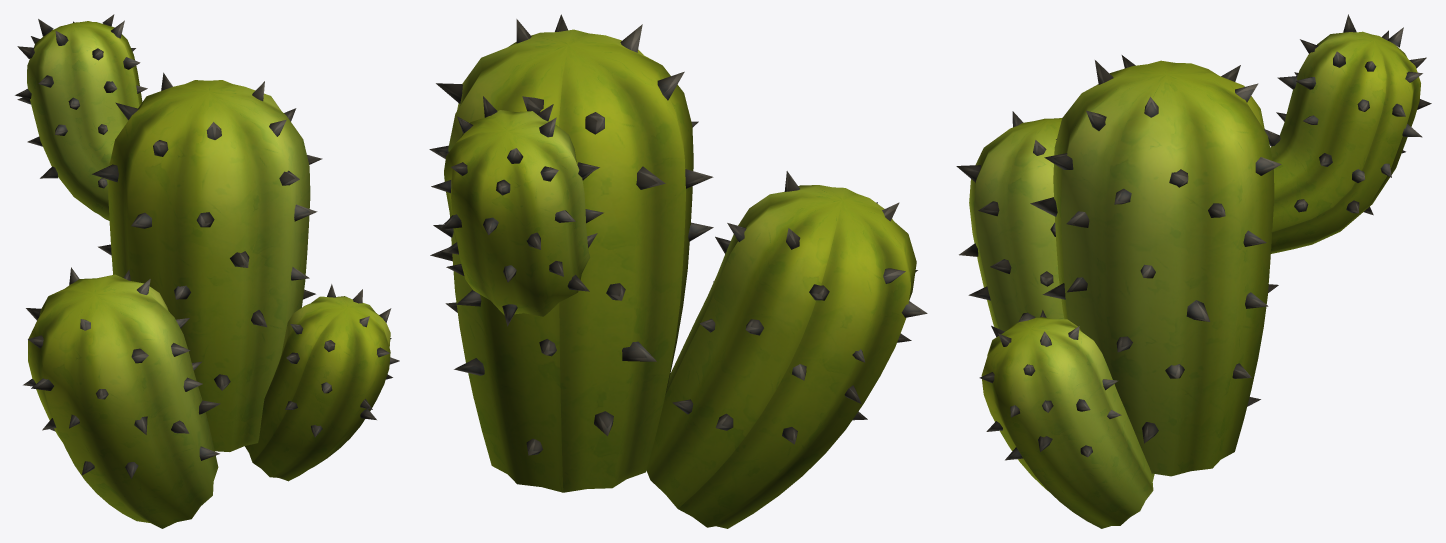
File: DE_Cactus_21.fbx
The picture shows the model from 3 angles, left to right: view 1: azimuth 30°, elevation 25°; view 2: azimuth 150°, elevation 25°; view 3: azimuth 270°, elevation 25°; orthographic projection. The views are drawn at different scales.
Parts seen in each view (by area): view 1: DE_Cactus_21; view 2: DE_Cactus_21; view 3: DE_Cactus_21.
Boxes of the visible parts, <box> form: DE_Cactus_21: <box>15,14,399,528</box>; DE_Cactus_21: <box>429,14,927,528</box>; DE_Cactus_21: <box>956,14,1431,528</box>.
Bounding box in the file's own units: 2.61 × 2.77 × 2.65.
